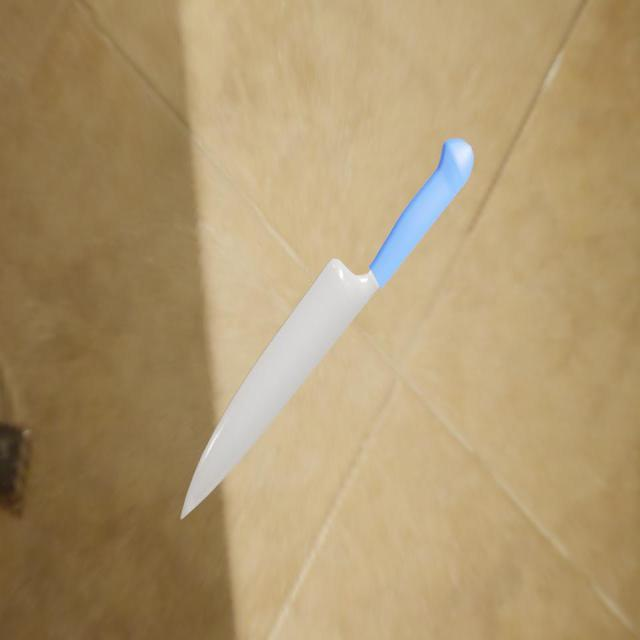knife: (368, 138, 474, 288)
